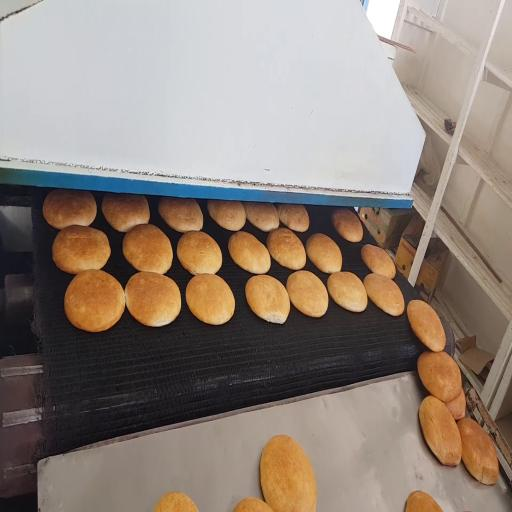bread: (260, 436, 317, 511), (65, 270, 125, 332), (125, 273, 181, 327), (419, 396, 461, 466), (53, 226, 110, 274), (458, 419, 499, 484), (123, 224, 173, 274), (186, 274, 235, 324), (418, 351, 461, 402), (246, 275, 290, 323), (43, 190, 96, 229), (407, 300, 445, 351), (177, 231, 222, 274), (287, 271, 328, 317), (102, 193, 149, 232), (228, 231, 270, 274), (364, 274, 404, 316), (267, 228, 306, 270), (327, 272, 367, 312), (159, 198, 203, 232), (306, 234, 342, 274), (207, 200, 245, 231), (361, 245, 395, 278), (243, 202, 279, 232), (332, 208, 363, 242), (277, 204, 309, 232), (154, 492, 197, 511), (406, 491, 442, 511), (446, 390, 466, 420), (234, 498, 272, 511)
